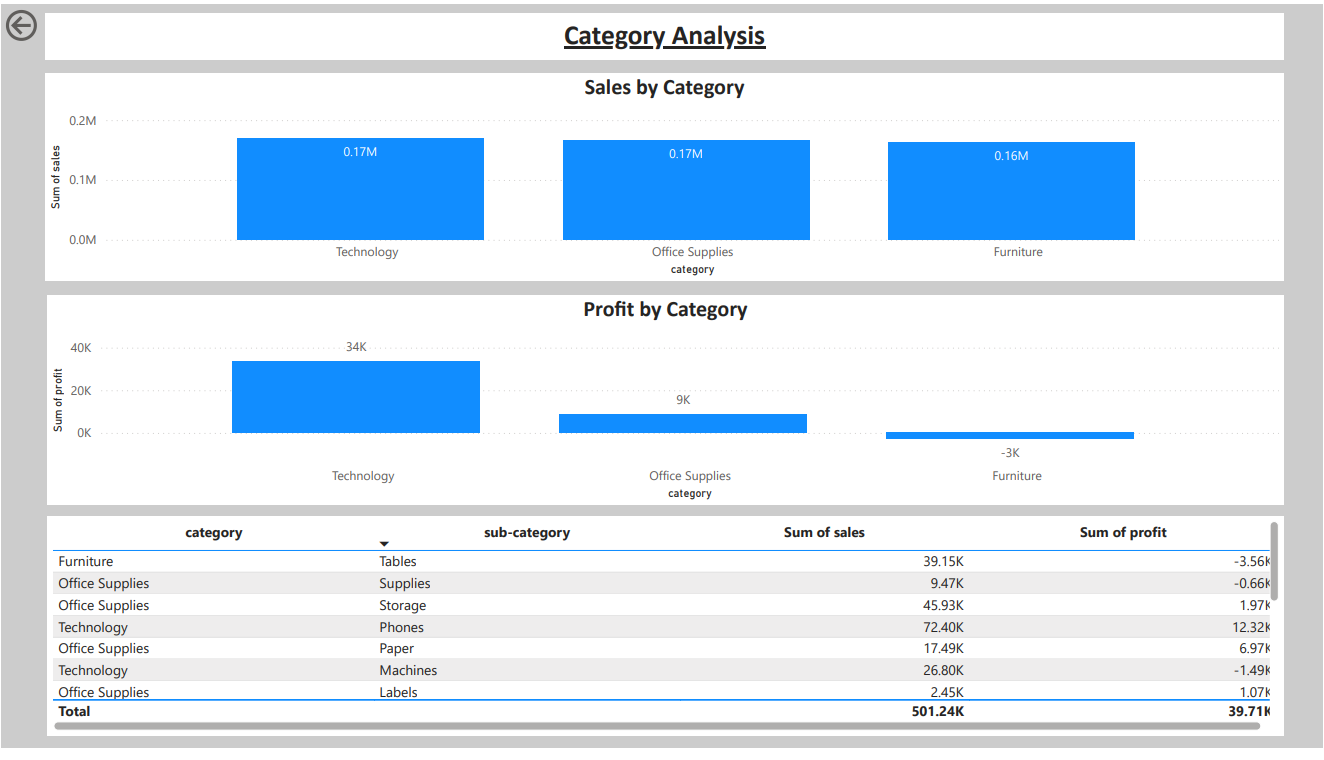

Layout of this report page (visuals, bound fields, positions):
{"tool":"powerbi","page":{"name":"Category Analysis","canvas":[1280,720],"ordinal":1},"visuals":[{"type":"textbox","box":[43.4,8.4,1199.2,44.6],"z":0},{"type":"columnChart","title":"Sales by Category","fields":{"Category":["superstore_cleaned.category"],"Y":["Sum(superstore_cleaned.sales)"]},"box":[43.4,66.4,1199.2,200.3],"z":1000},{"type":"clusteredColumnChart","title":"Profit by Category","fields":{"Y":["Sum(superstore_cleaned.profit)"],"Category":["superstore_cleaned.category"]},"box":[44.6,281.1,1198,202.7],"z":2000},{"type":"tableEx","fields":{"Values":["superstore_cleaned.category","superstore_cleaned.sub-category","Sum(superstore_cleaned.sales)","Sum(superstore_cleaned.profit)"]},"box":[44.6,494.6,1198,213.5],"z":3000},{"type":"actionButton","box":[0,0,100,40],"z":4000}]}

Visuals, with their boxes on the page's 1280x720 design canvas (x1, y1, x2, y2). These are canvas units, not pixel positions in the 1324x760 screenshot, which may show the page scaled, cropped or inside an application window:
textbox: box=[43, 8, 1243, 53]
"Sales by Category" columnChart: box=[43, 66, 1243, 267]
"Profit by Category" clusteredColumnChart: box=[45, 281, 1243, 484]
tableEx - superstore_cleaned.category x superstore_cleaned.sub-category: box=[45, 495, 1243, 708]
actionButton: box=[0, 0, 100, 40]
